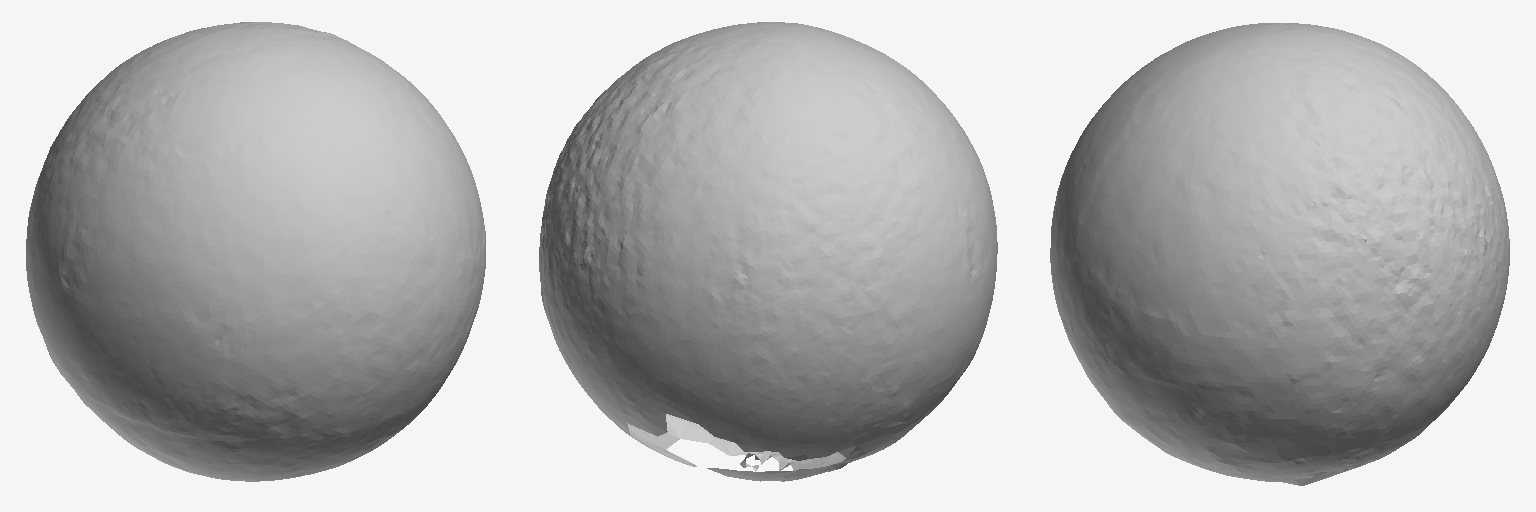
Rendered from Gridtest_2_2_1.000001.obj.
3 views of the same model, side by side, from view 1: azimuth 30°, elevation 25°; view 2: azimuth 150°, elevation 25°; view 3: azimuth 270°, elevation 25° (orthographic).
Bounding box in the file's own units: 300 × 305 × 298.